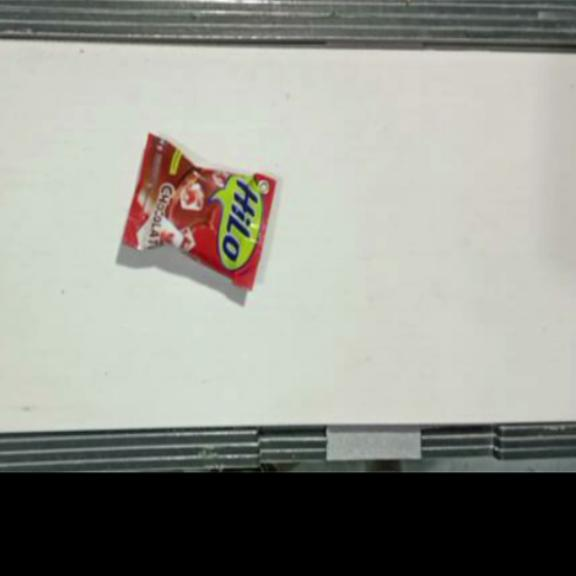Plastik: (122, 133, 276, 292)
